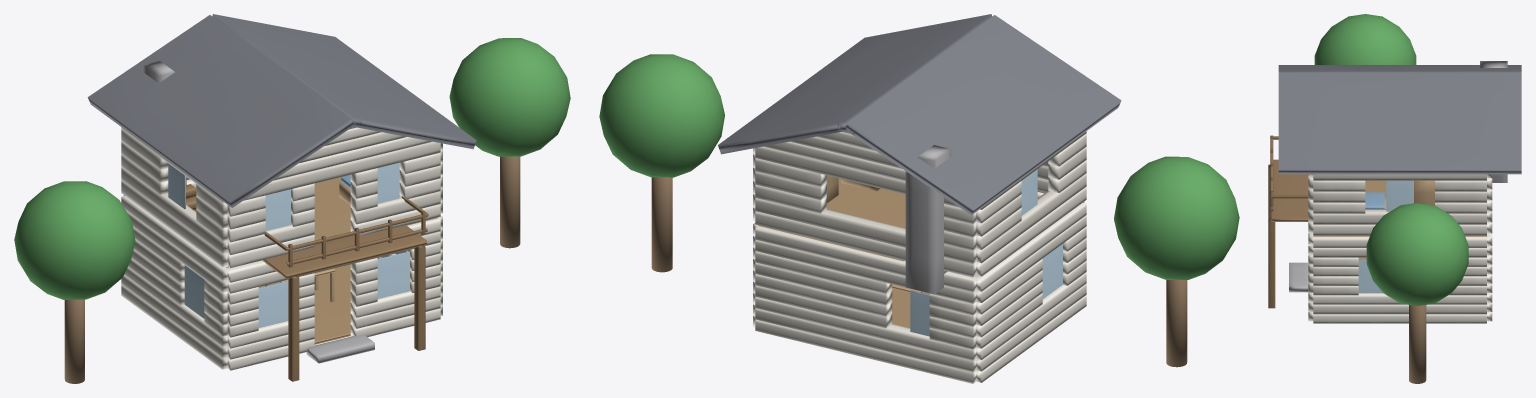
File: cabana_2_posada_dos_plantas.glb
The picture shows the model from 3 angles, left to right: view 1: azimuth 30°, elevation 25°; view 2: azimuth 150°, elevation 25°; view 3: azimuth 270°, elevation 25°; orthographic projection. The views are drawn at different scales.
Parts seen in each view (by area): view 1: Muro (×33), TechoIzq, Arbol1_Copa, Arbol2_Copa, TechoDer, Cristal (×6), Balcon, Fronton (×2), Pilar (×2), SueloPB, Arbol2_Tronco, SueloPA (+4 smaller); view 2: Muro (×35), TechoIzq, Arbol2_Copa, Arbol1_Copa, TechoDer, Chimenea, Fronton (×2), SueloPA, Cristal (×3), Arbol2_Tronco, Arbol1_Tronco, SueloPB; view 3: TechoDer, Muro (×20), Arbol2_Copa, Arbol1_Copa, TechoIzq, Balcon, Arbol2_Tronco, Cristal (×2), Pilar, Escalon, Armario, SueloPA (+2 smaller).
Boxes of the visible parts, x1,y1,x2,y2 form: Muro (×33): [121, 129, 440, 370]; TechoIzq: [87, 15, 353, 207]; Arbol1_Copa: [14, 181, 135, 299]; Arbol2_Copa: [449, 38, 570, 156]; TechoDer: [212, 14, 476, 149]; Cristal (×6): [168, 162, 409, 327]; Balcon: [262, 225, 426, 278]; Fronton (×2): [273, 132, 432, 180]; Pilar (×2): [288, 245, 425, 381]; SueloPB: [258, 264, 350, 344]; Arbol2_Tronco: [500, 156, 520, 248]; SueloPA: [314, 177, 437, 240]; Muro (×35): [755, 146, 1086, 383]; TechoIzq: [845, 15, 1121, 215]; Arbol2_Copa: [599, 54, 724, 177]; Arbol1_Copa: [1114, 156, 1239, 279]; TechoDer: [718, 14, 992, 154]; Chimenea: [905, 145, 951, 294]; Fronton (×2): [763, 136, 905, 181]; SueloPA: [758, 178, 905, 261]; Cristal (×3): [910, 169, 1062, 336]; Arbol2_Tronco: [651, 177, 672, 272]; Arbol1_Tronco: [1166, 280, 1187, 367]; SueloPB: [892, 288, 929, 327]; TechoDer: [1278, 72, 1521, 174]; Muro (×20): [1313, 174, 1486, 323]; Arbol2_Copa: [1366, 203, 1468, 306]; Arbol1_Copa: [1314, 14, 1416, 64]; TechoIzq: [1278, 65, 1521, 72]; Balcon: [1271, 159, 1308, 221]; Arbol2_Tronco: [1409, 305, 1426, 383]; Cristal (×2): [1358, 180, 1413, 293]; Pilar: [1268, 217, 1275, 308]; Escalon: [1289, 262, 1308, 292]; Armario: [1414, 180, 1434, 205]; SueloPA: [1313, 180, 1486, 236].
Size of what is drawn, in the model's own units: 1.06 by 0.4317 by 0.4745.
